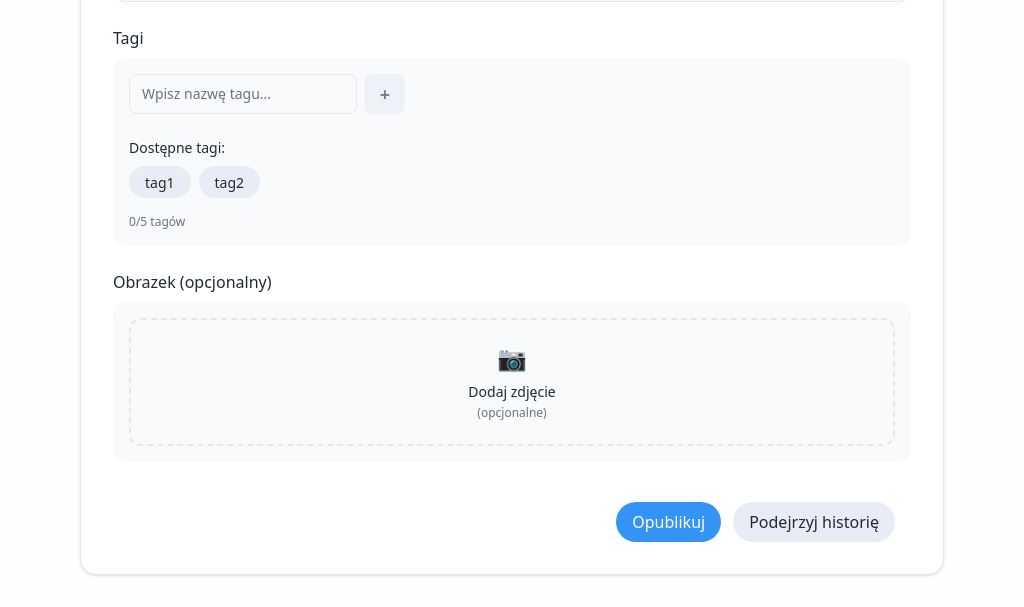
Scenario: StoryCreateForm › pokazuje błędy walidacji przy pustym submicie
(page scrolled)
Click the button "Opublikuj" at (669, 522), box [616, 502, 721, 542]
(page scrolled)
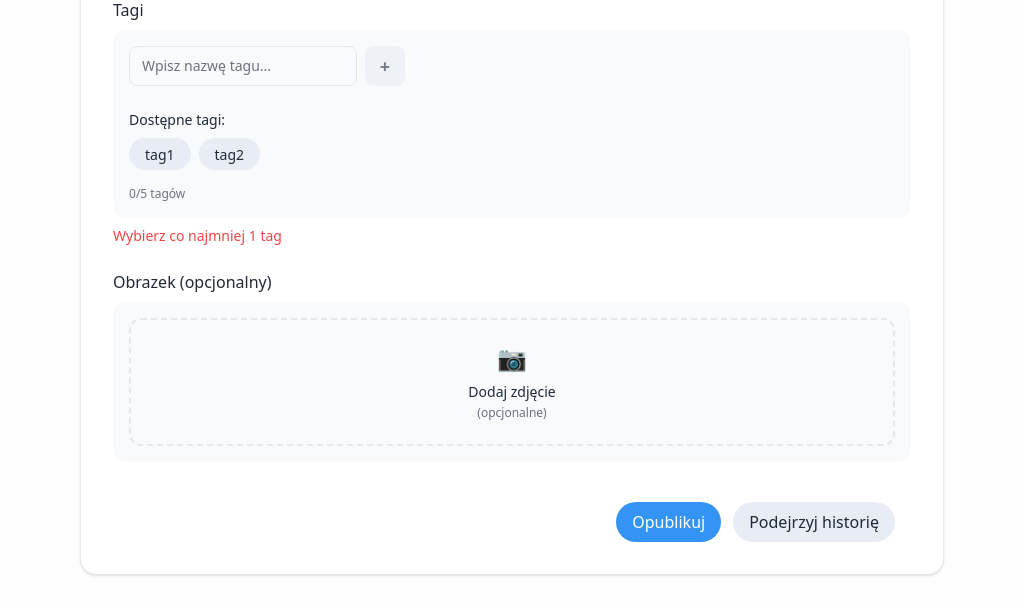
Expected: the text "Wybierz co najmniej 1 tag" is shown, [113, 226, 282, 245]
